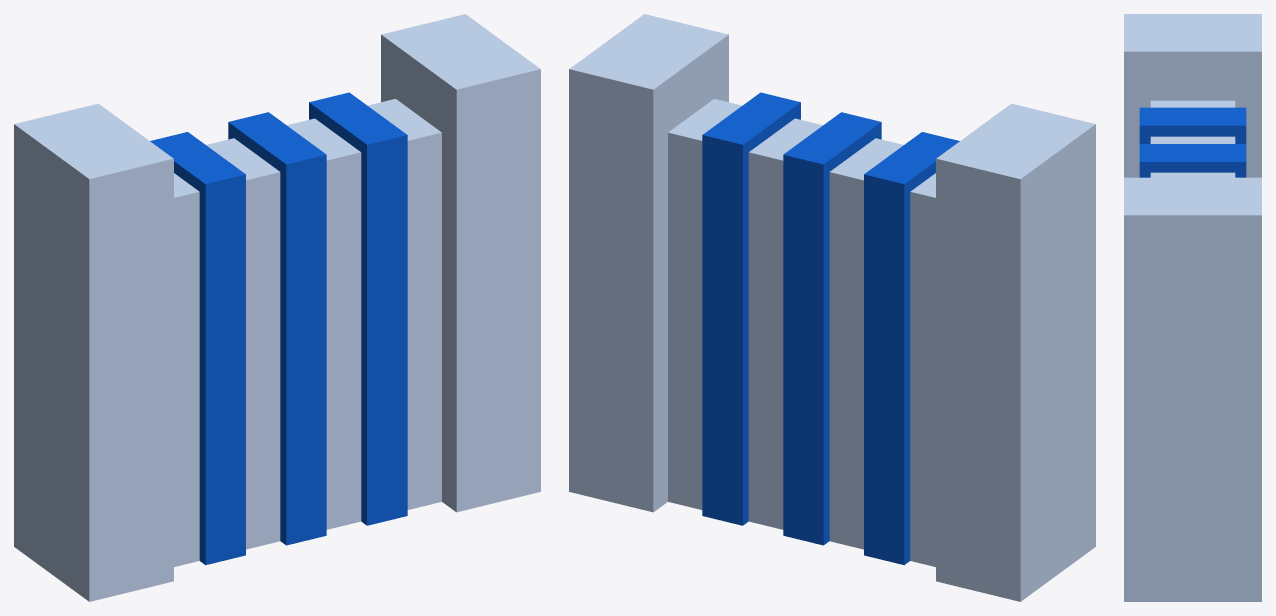
The model's file is Wall.fbx.
3 renders of one model, left to right at view 1: azimuth 30°, elevation 25°; view 2: azimuth 150°, elevation 25°; view 3: azimuth 270°, elevation 25°, orthographic. The views are drawn at different scales.
Parts seen in each view (by area): view 1: Wall; view 2: Wall; view 3: Wall.
Boxes of the visible parts, x1,y1,x2,y2 form: Wall: [14, 14, 540, 601]; Wall: [569, 14, 1095, 601]; Wall: [1124, 14, 1261, 601].
Bounding box in the file's own units: 57.41 × 51.38 × 16.6.
1 material, 1 textured.
